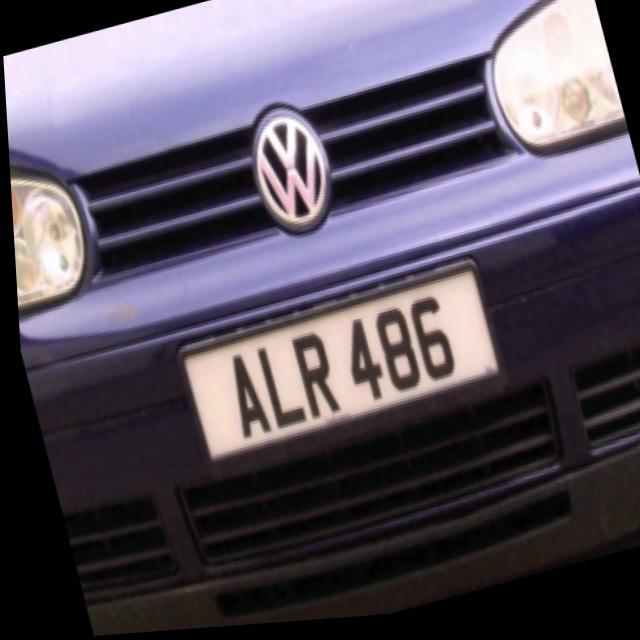license_plate: (169, 283, 484, 482)
